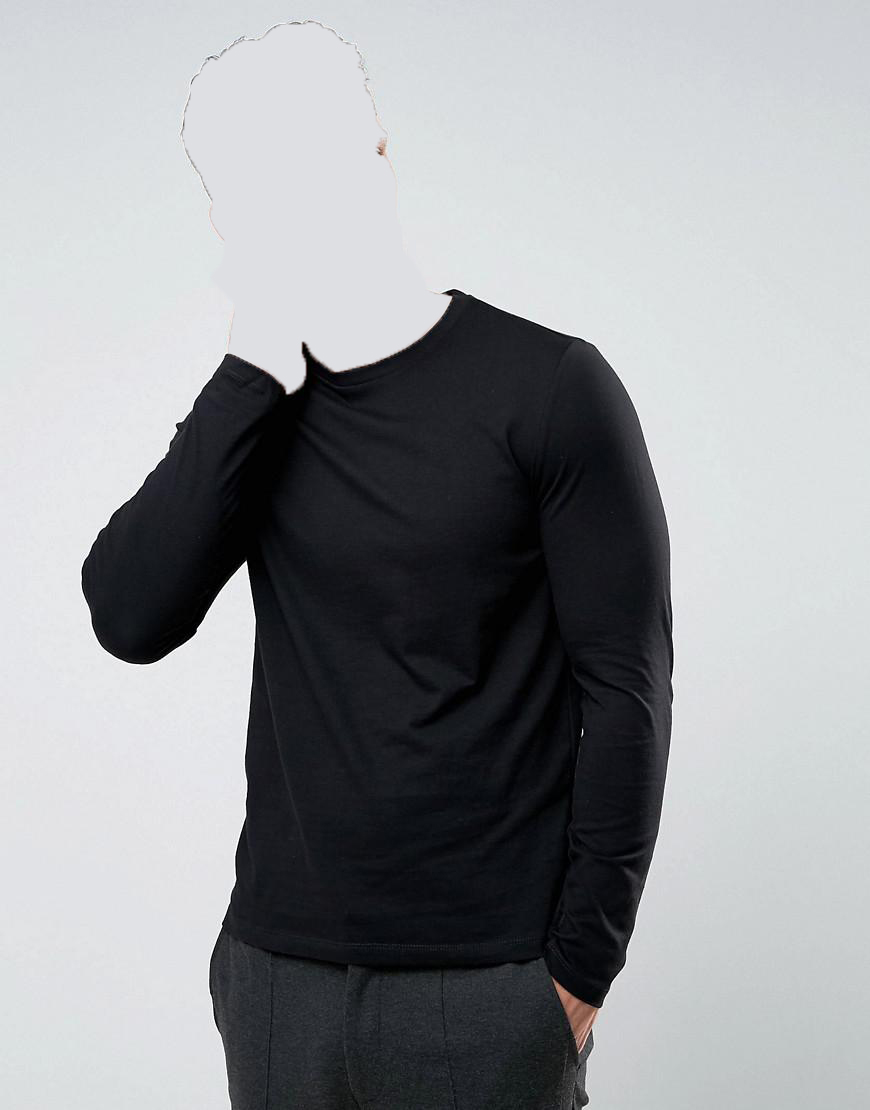teeshirt: (81, 290, 688, 1000)
